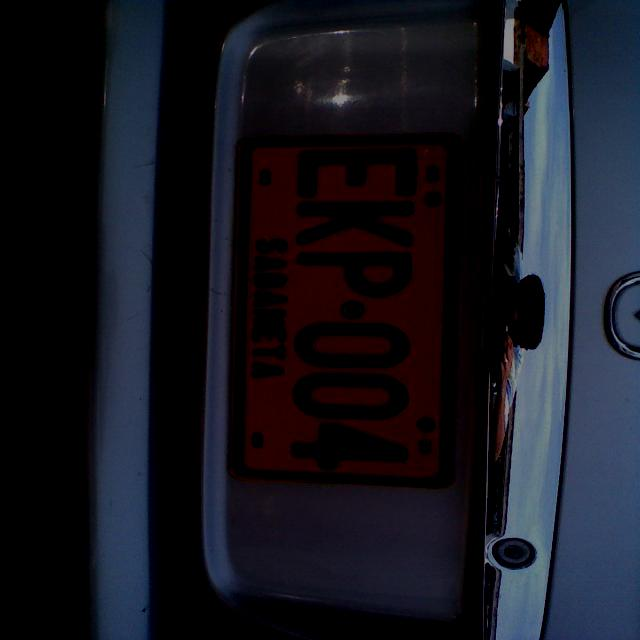placa: (225, 117, 470, 497)
